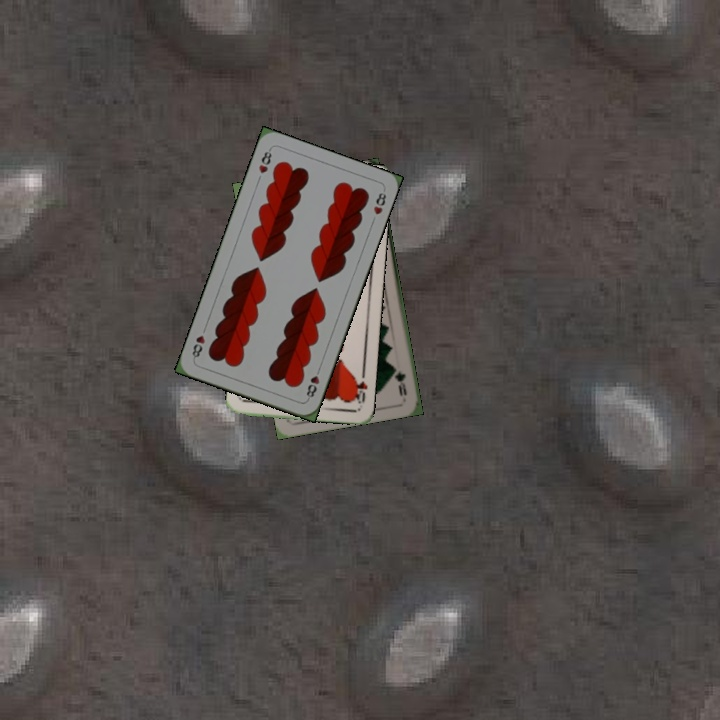G9: (391, 363, 409, 399)
H8: (302, 363, 323, 402), (254, 145, 274, 176)
HO: (350, 368, 370, 406)
